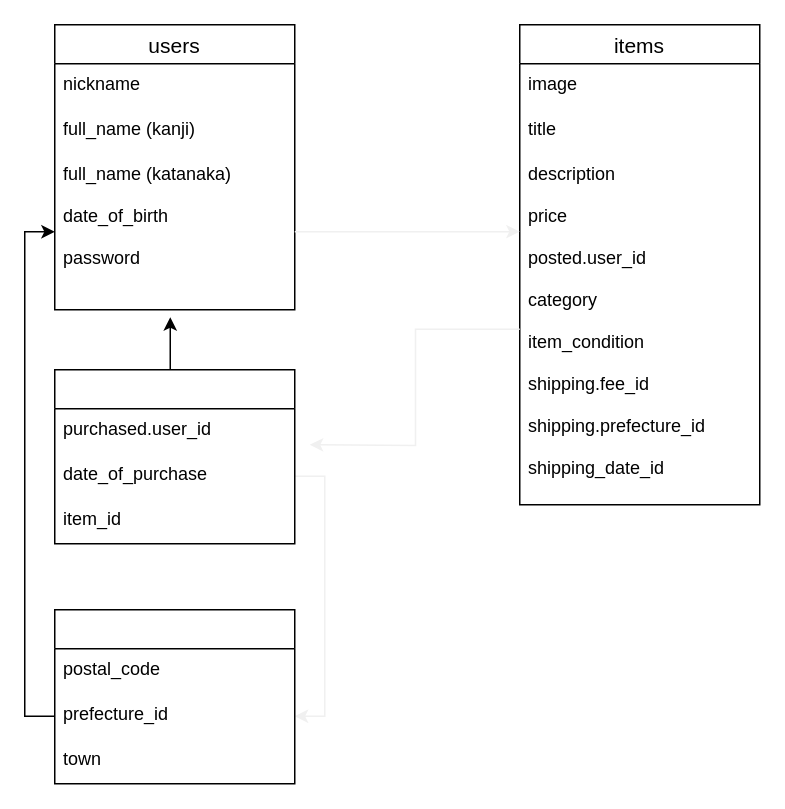
Image size: 785x809. Some labels were removed from this diagram. The shapes that lost their labels are listed below. From the top down, each one's box as (x1, y1, x2, y2) in pixels, then its label:
(53, 368, 295, 544): buy
(53, 608, 295, 784): address
